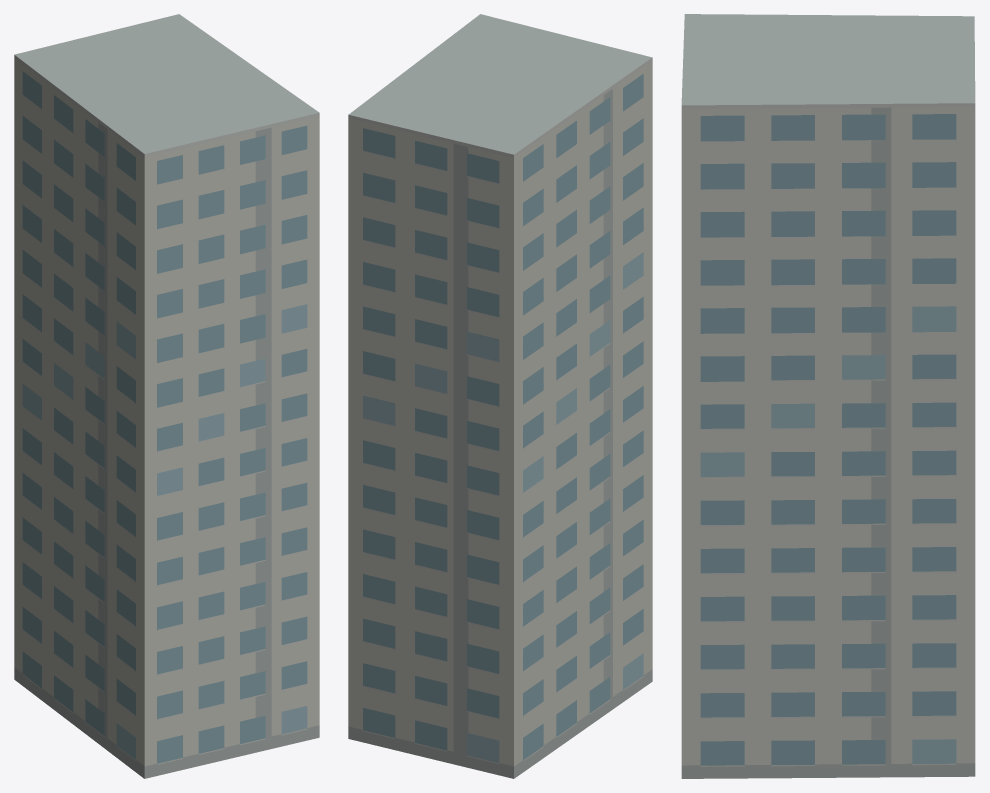
Rendered from residential-3b47873b-35ba-42ee-941a-8937c1a12737.glb.
The picture shows the model from 3 angles, left to right: view 1: azimuth 30°, elevation 25°; view 2: azimuth 150°, elevation 25°; view 3: azimuth 270°, elevation 25°; orthographic projection. The views are drawn at different scales.
Parts seen in each view (by area): view 1: residential-3b47873b-35ba-42ee-941a-8937c1a12737.tmp; view 2: residential-3b47873b-35ba-42ee-941a-8937c1a12737.tmp; view 3: residential-3b47873b-35ba-42ee-941a-8937c1a12737.tmp.
Part boxes in pixels (x1,y1,x2,y2): residential-3b47873b-35ba-42ee-941a-8937c1a12737.tmp: (14, 14, 319, 778); residential-3b47873b-35ba-42ee-941a-8937c1a12737.tmp: (348, 14, 652, 778); residential-3b47873b-35ba-42ee-941a-8937c1a12737.tmp: (681, 14, 975, 778).
Bounding box in the file's own units: 13.11 × 45 × 17.8.
